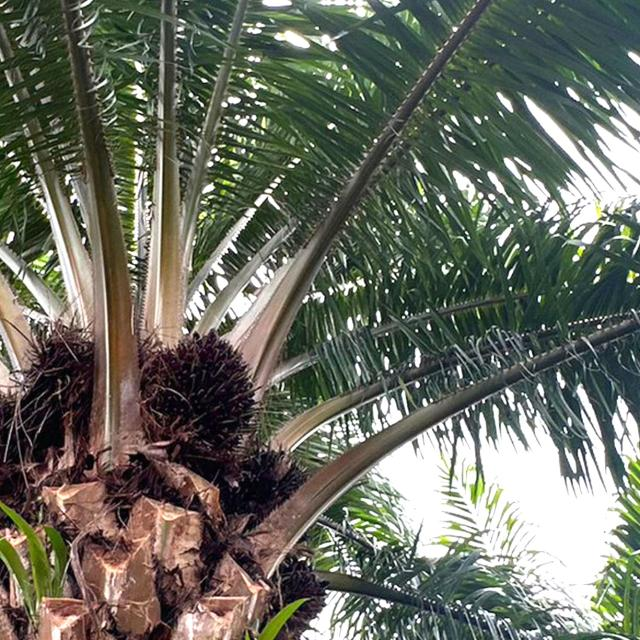almost: (142, 325, 260, 458), (229, 444, 316, 530), (266, 546, 331, 640)
